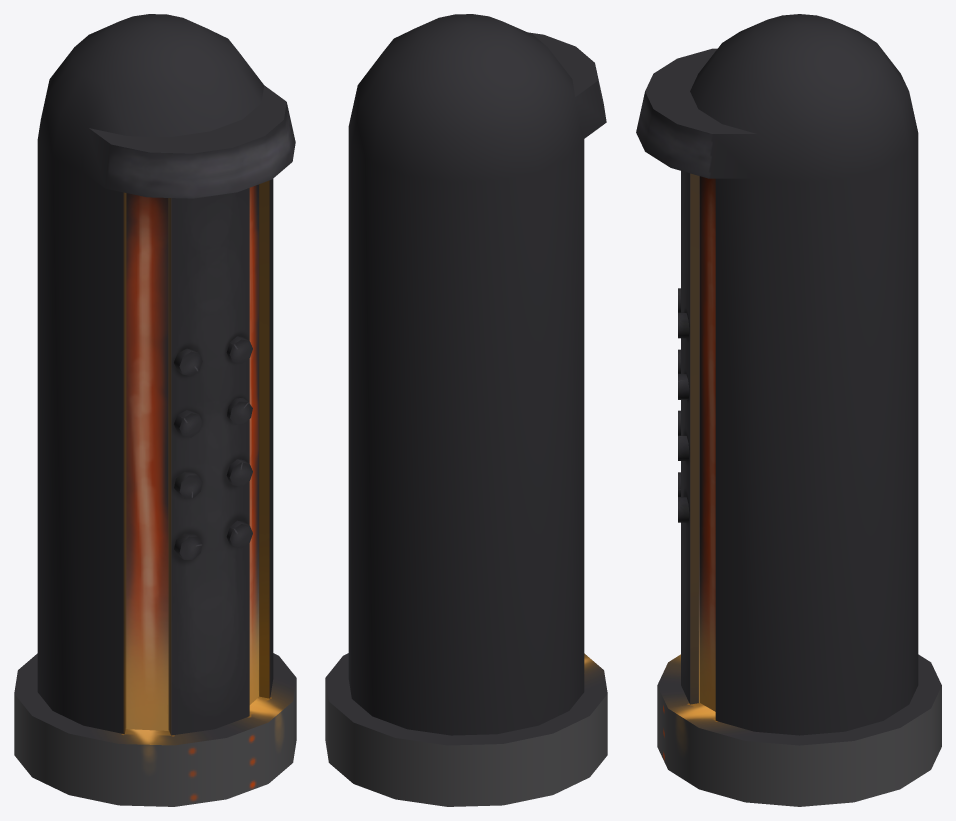
The model's file is mechanicTube01.fbx.
3 renders of one model, left to right at view 1: azimuth 30°, elevation 25°; view 2: azimuth 150°, elevation 25°; view 3: azimuth 270°, elevation 25°, orthographic.
Visible parts, largest first — view 1: Mech_Tube; view 2: Mech_Tube; view 3: Mech_Tube.
Part boxes in pixels (box(x1,y1,x2,y2)): Mech_Tube: box(14, 14, 296, 806); Mech_Tube: box(325, 14, 607, 806); Mech_Tube: box(636, 14, 941, 806).
Bounding box in the file's own units: 0.84 × 2.35 × 0.9027.
Materials: 1 (1 with a texture image).
